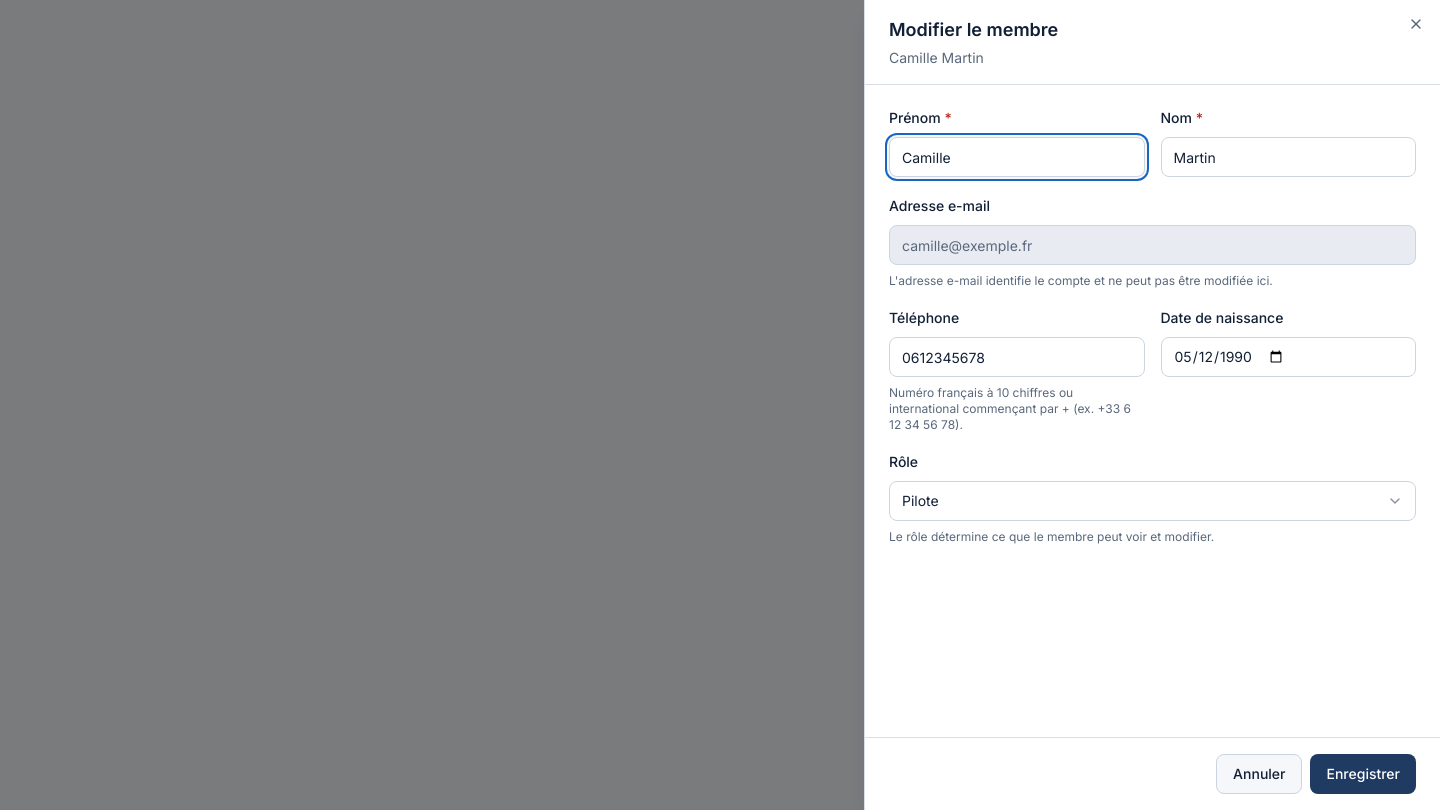
Scenario: EditUserForm › refuses a phone number that is not one, under the field
This screenshot has width=1440, height=810.
Replace the text in the field labelled "Téléphone" with "12 34" at (1017, 357), box [889, 337, 1144, 377]
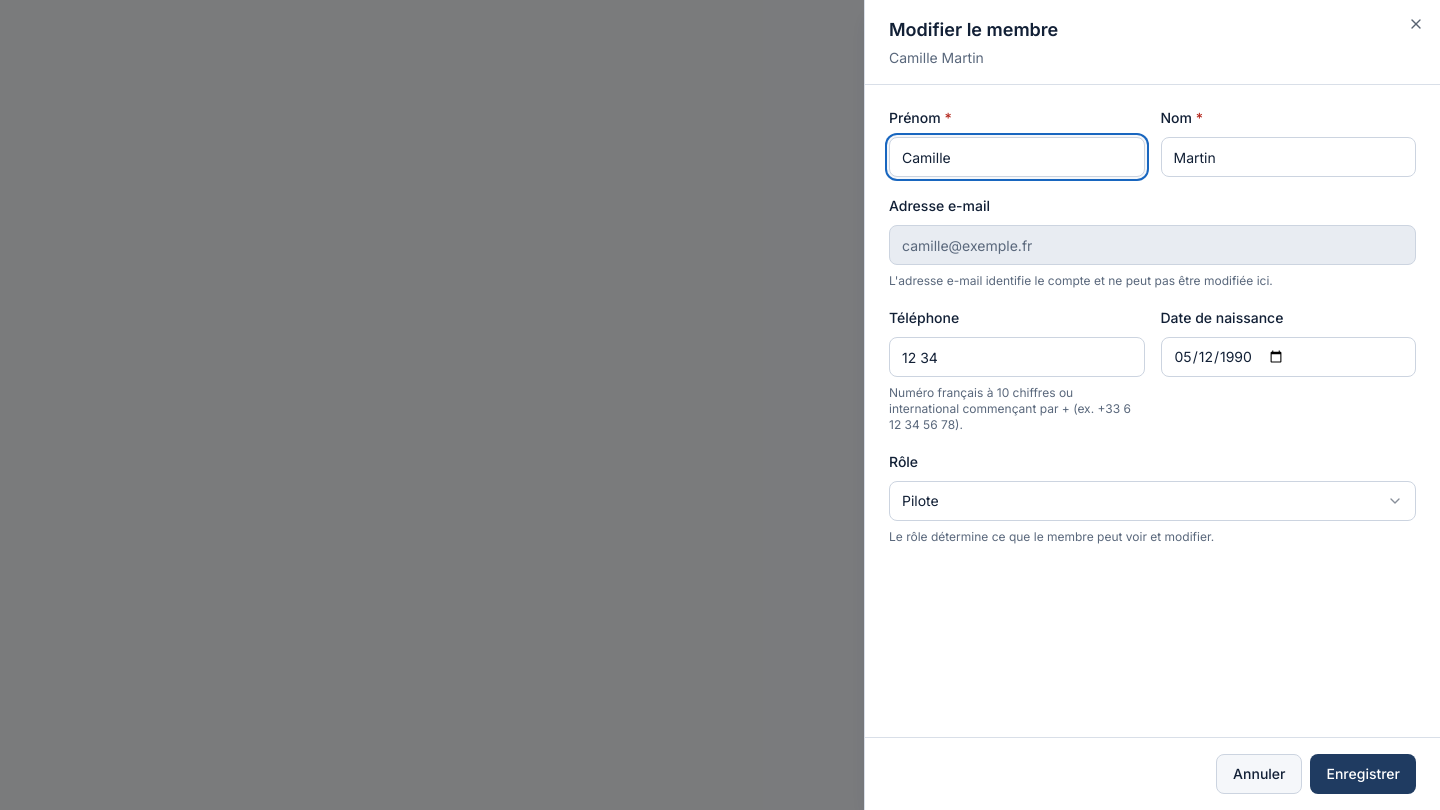
Click the button "Enregistrer".
click(1363, 774)  # box [1310, 754, 1416, 794]
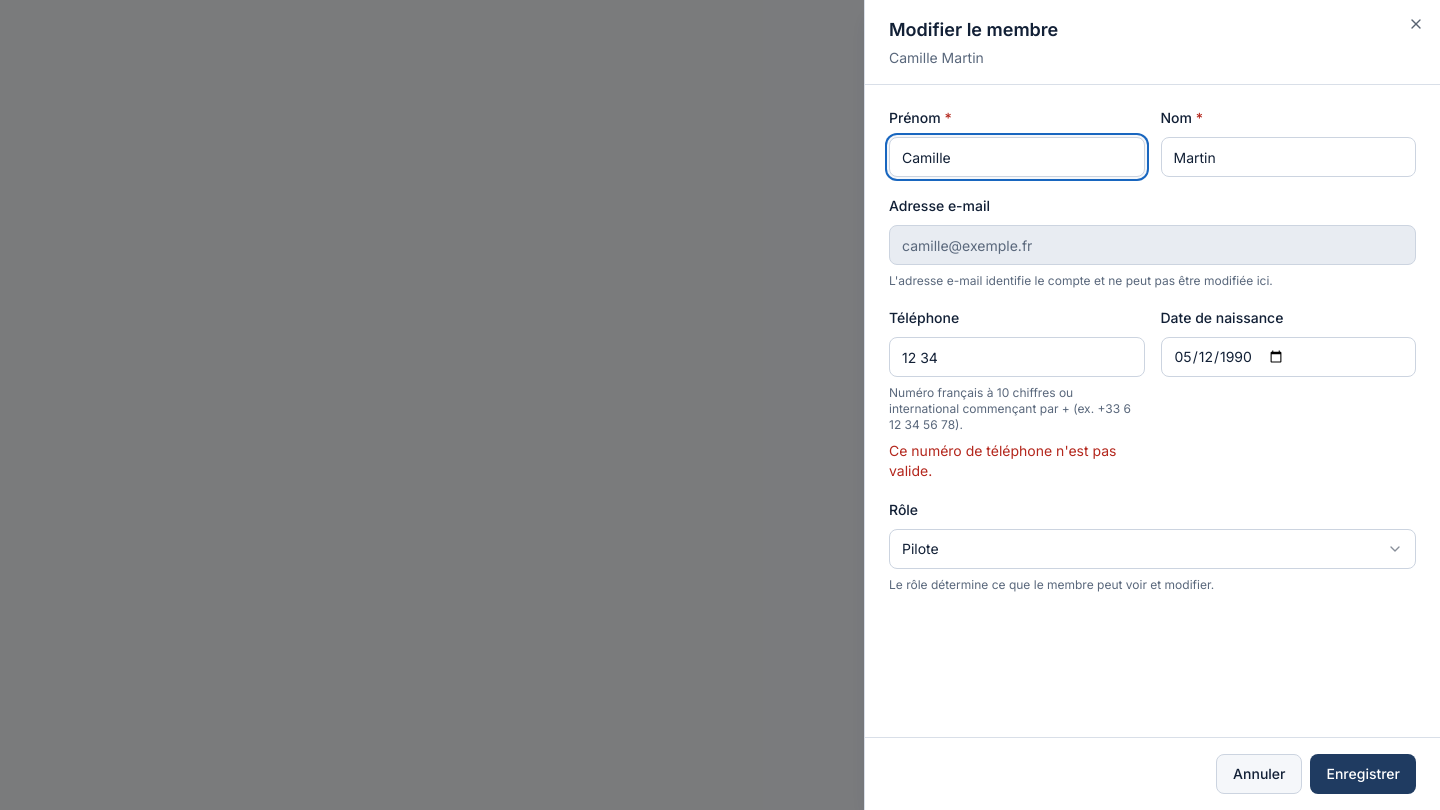
Check: the text "Ce numéro de téléphone n'est pas valide." is shown, box [889, 441, 1144, 481]
